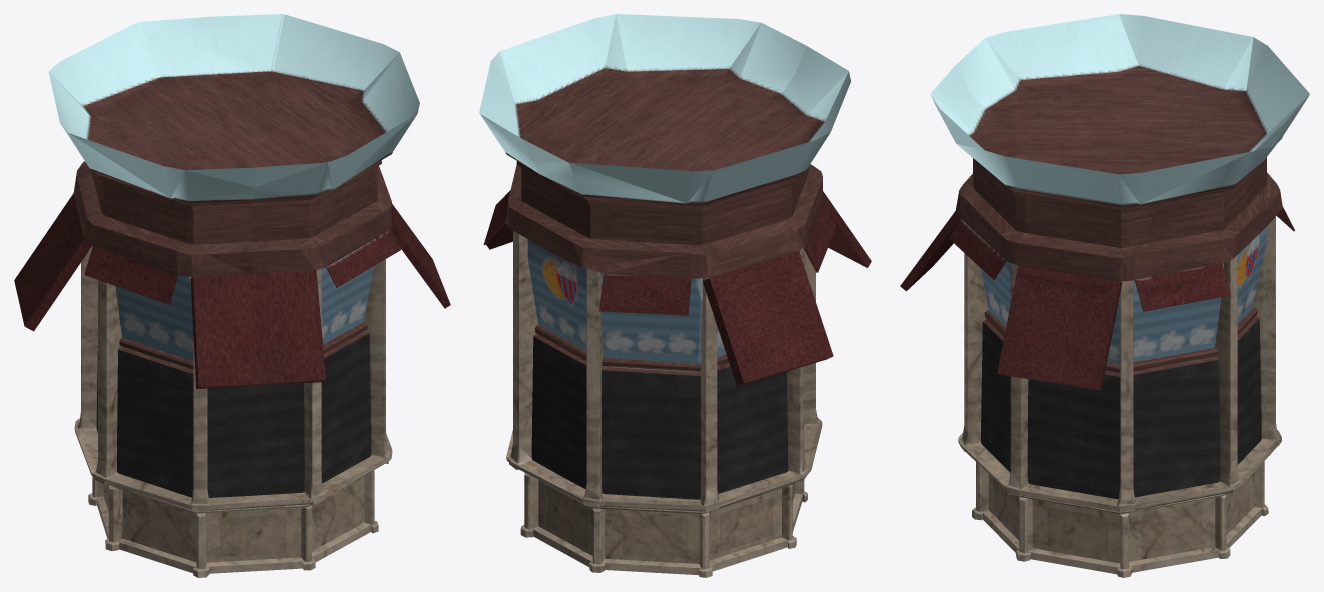
3 renders of one model, left to right at view 1: azimuth 30°, elevation 25°; view 2: azimuth 150°, elevation 25°; view 3: azimuth 270°, elevation 25°, orthographic.
Visible parts, largest first — view 1: Base2; view 2: Base2; view 3: Base2.
Boxes of the visible parts, x1,y1,x2,y2 form: Base2: (14,14,450,577); Base2: (479,14,871,577); Base2: (900,14,1309,577).
Size of the model in its own units: 0.0753 by 0.0809 by 0.0713.
1 material, 1 textured.
